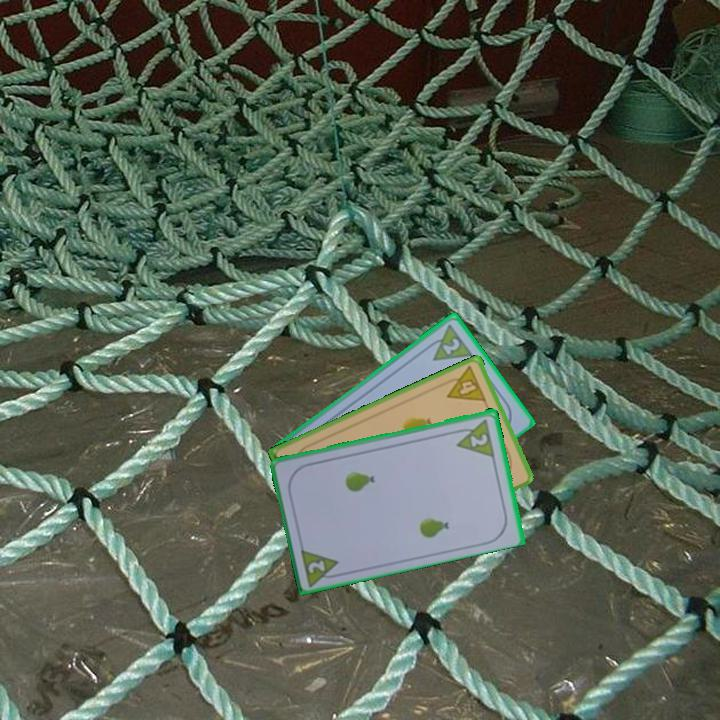2p: (297, 544, 345, 588), (439, 334, 463, 357), (467, 430, 491, 450)
4p: (439, 362, 489, 405)
